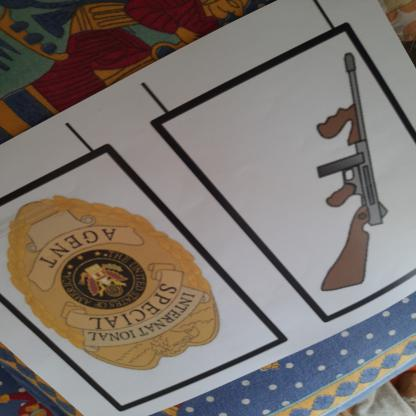Bootlegger: (291, 46, 406, 299)
G-man: (4, 190, 250, 375)
